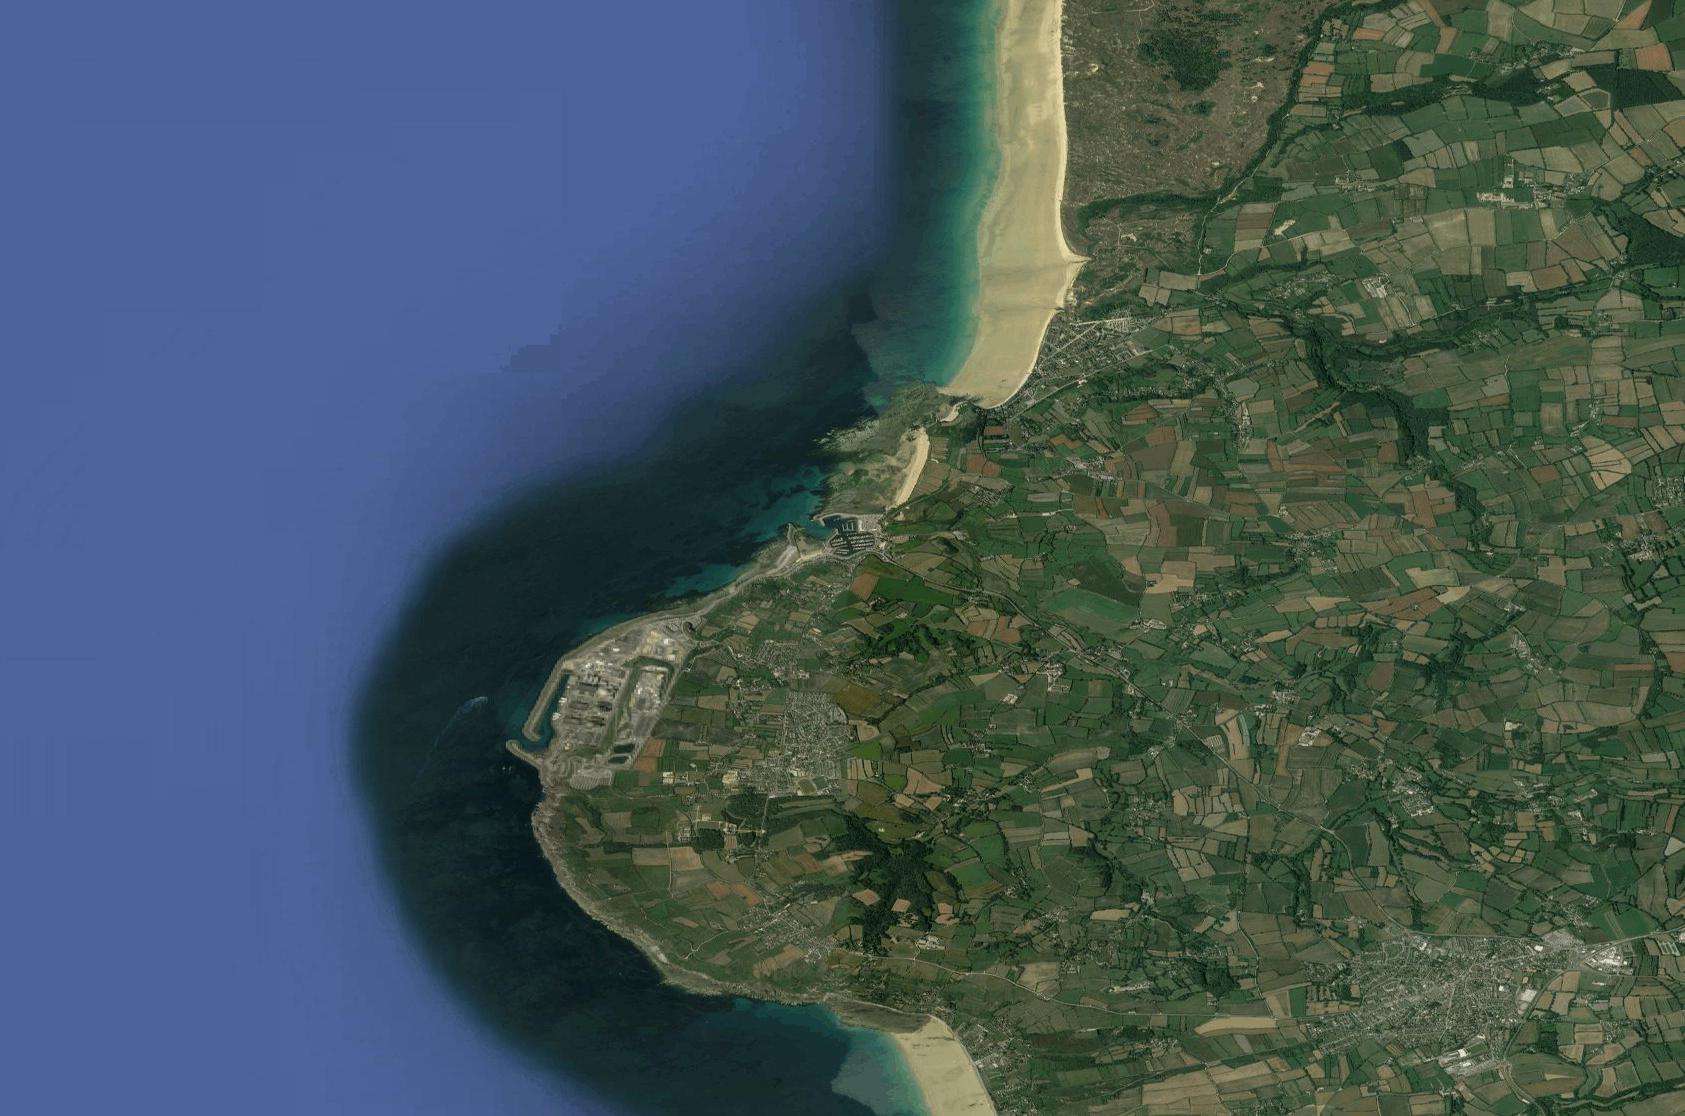harbor: (790, 503, 885, 563)
